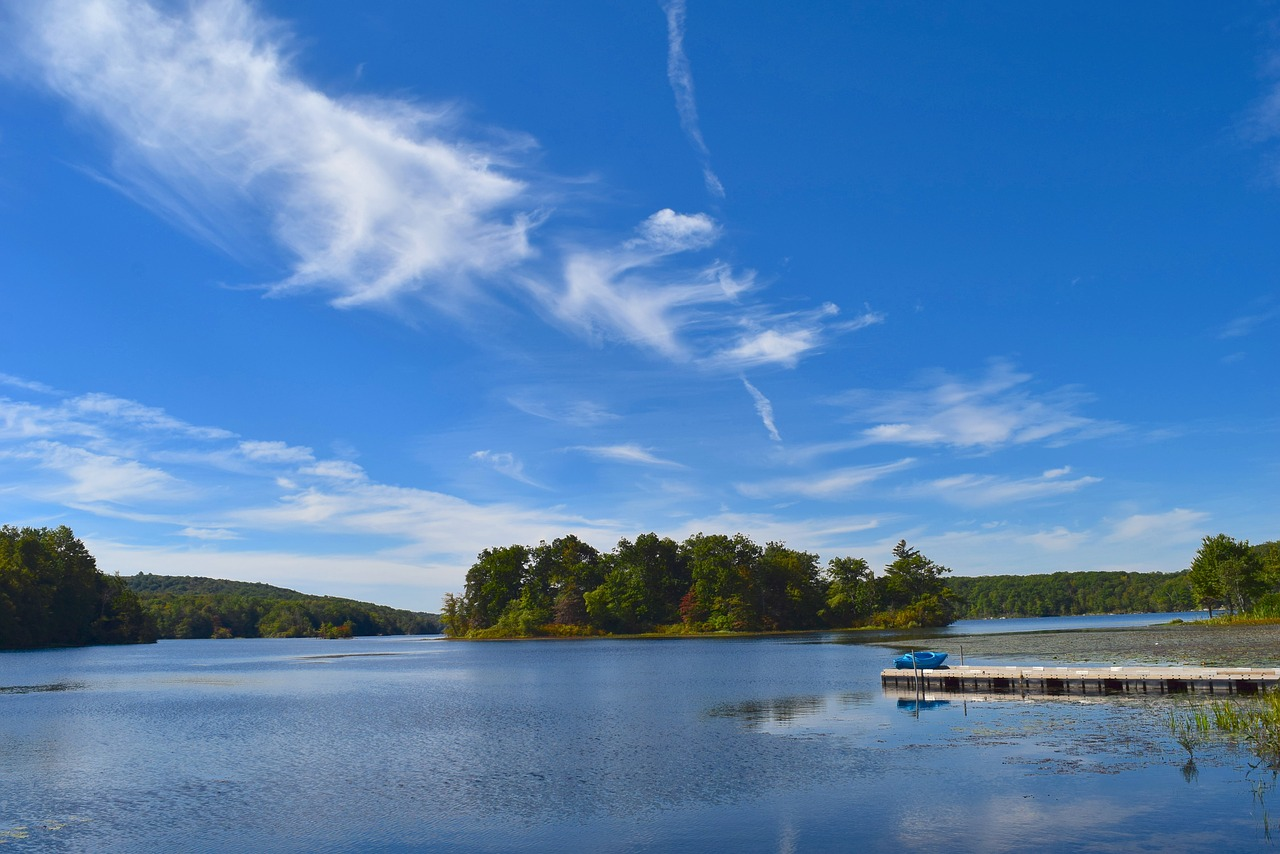kayak: (894, 648, 951, 670)
